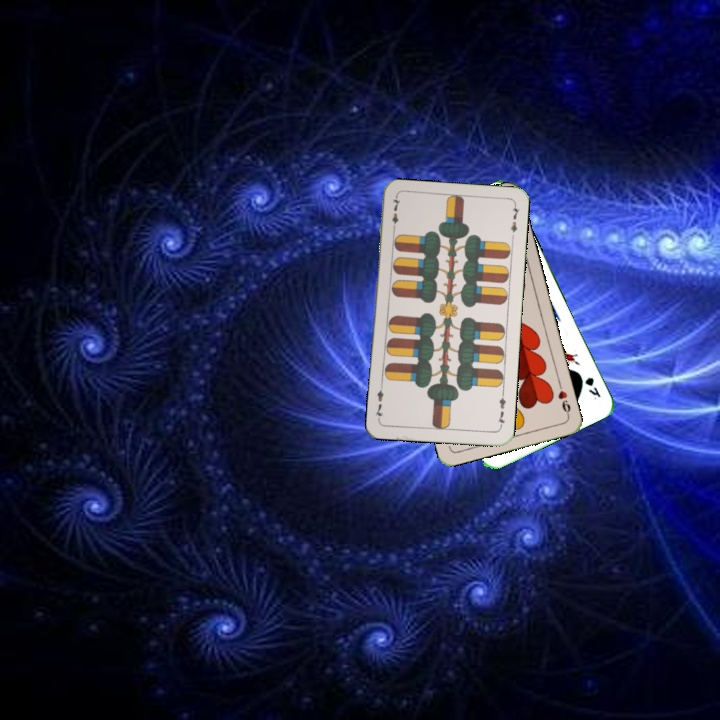E7: (493, 390, 508, 430), (388, 194, 403, 234)
GK: (581, 372, 603, 402)
H9: (554, 379, 573, 419)
